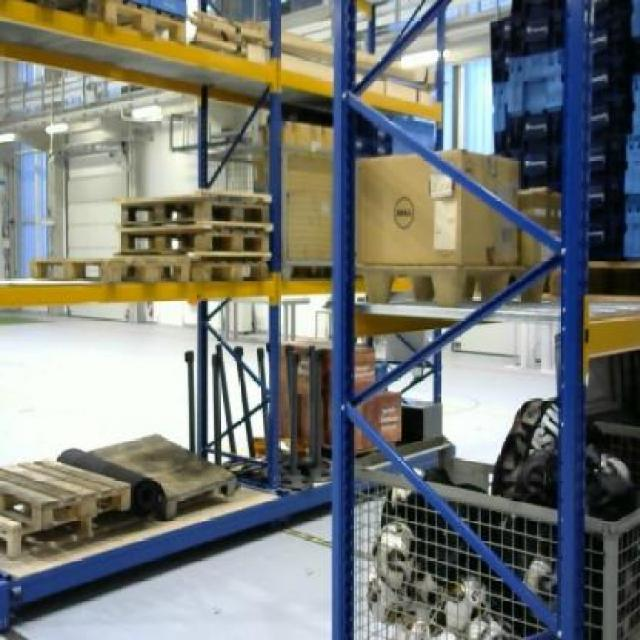box: (354, 150, 518, 264), (279, 118, 333, 266)
